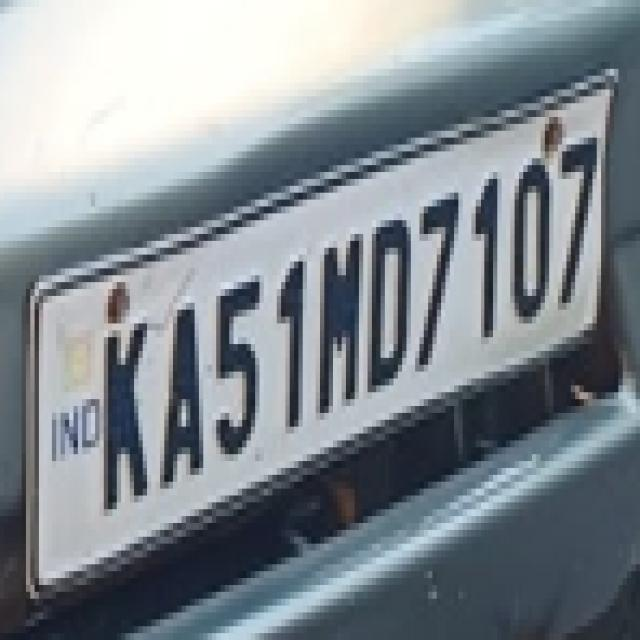0: (510, 140, 556, 338)
1: (471, 161, 508, 359), (274, 237, 309, 446)
5: (213, 259, 267, 465)
7: (416, 187, 466, 376), (558, 120, 602, 321)
A: (156, 286, 211, 491)
D: (364, 206, 412, 407)
K: (97, 305, 152, 523)
M: (316, 228, 365, 425)
